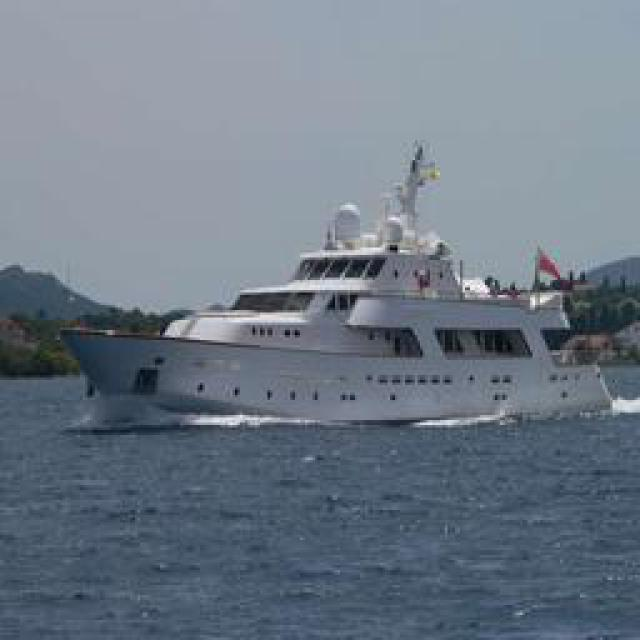Ship: (67, 142, 635, 430)
